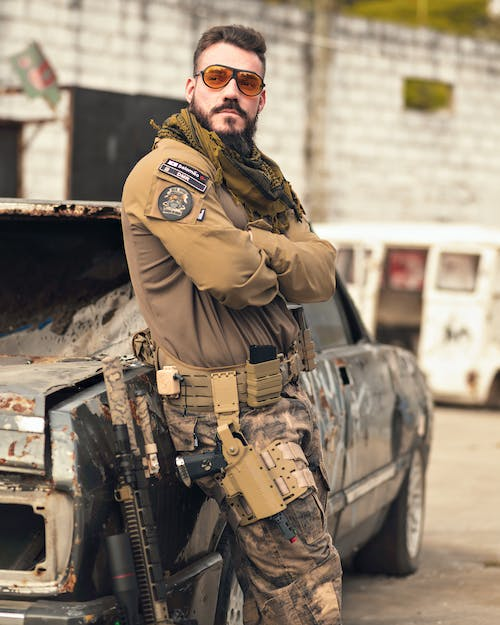gun: (98, 349, 205, 625), (170, 427, 300, 549)
